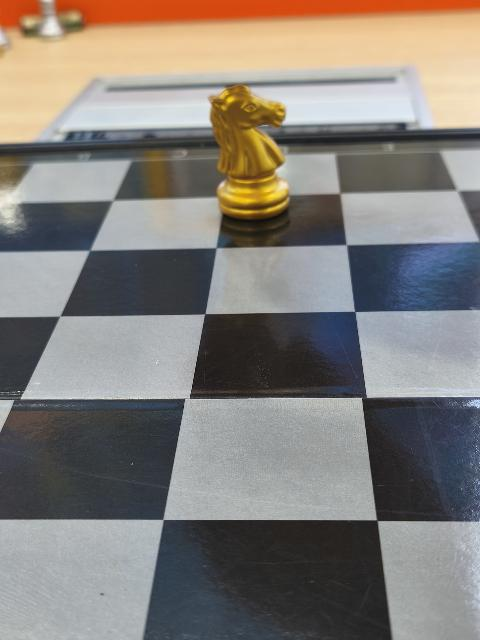black_knight: (203, 80, 294, 217)
